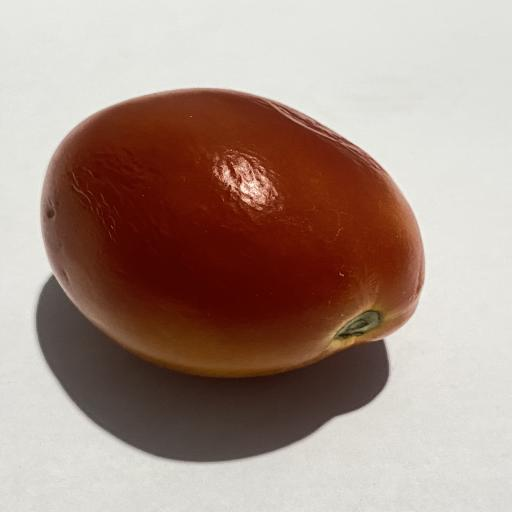spoiled: (41, 89, 424, 377)
